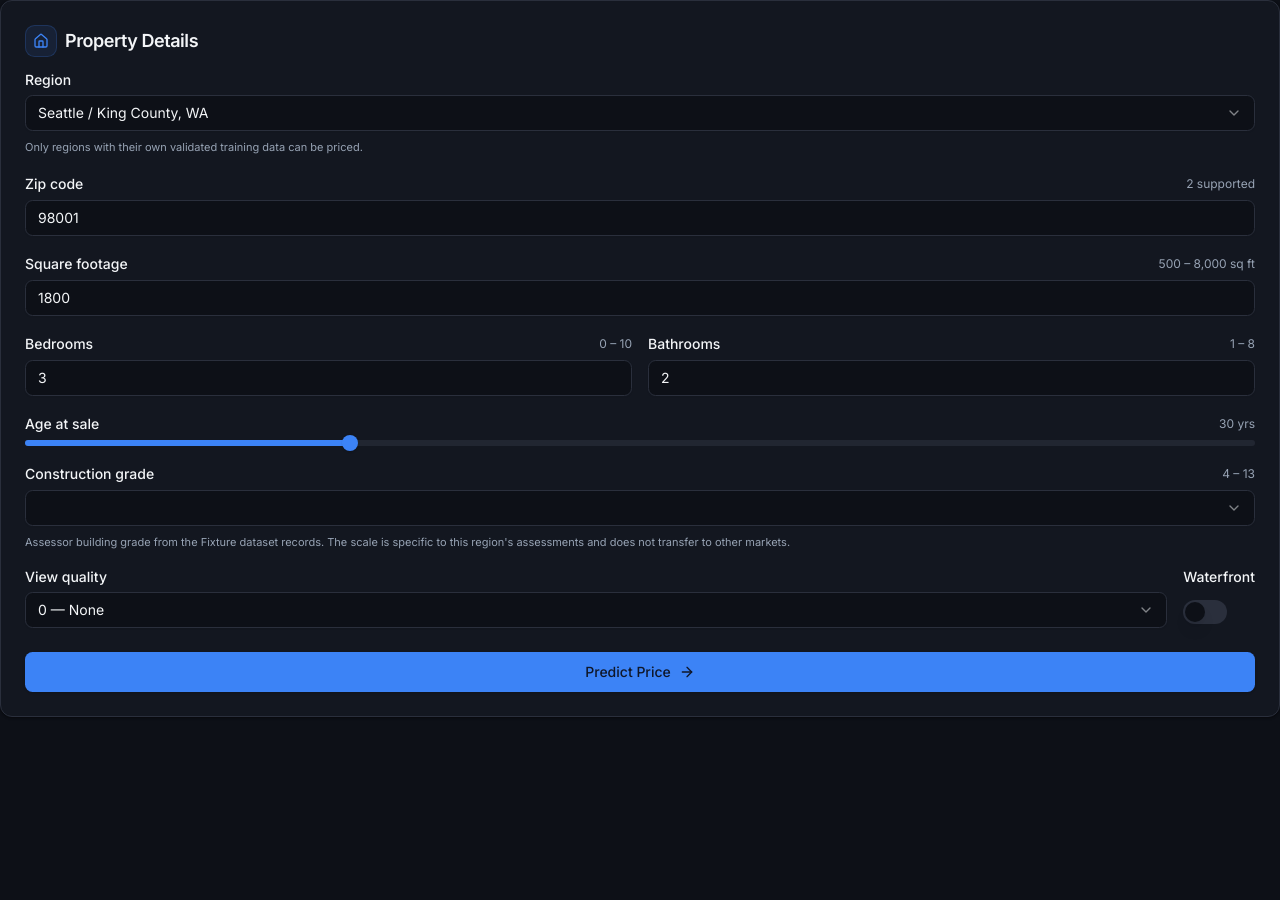
it: PredictionForm › shows a server error as a server error
Click the button "Predict Price".
click(640, 672)  # box 25,652 -> 1255,692
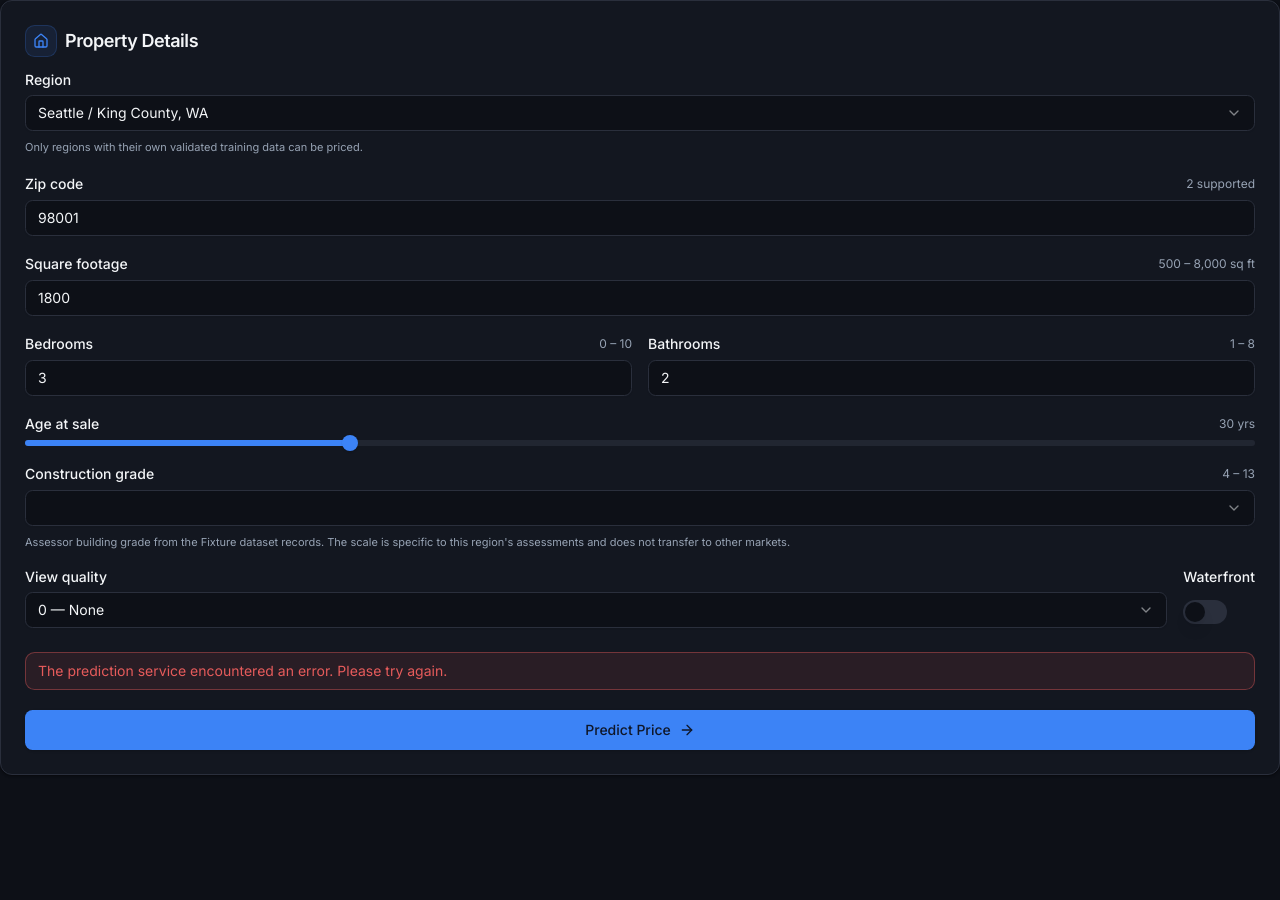
Expected: the message reads "The prediction service encountered an error. Please try again.", 38,662 -> 447,679
